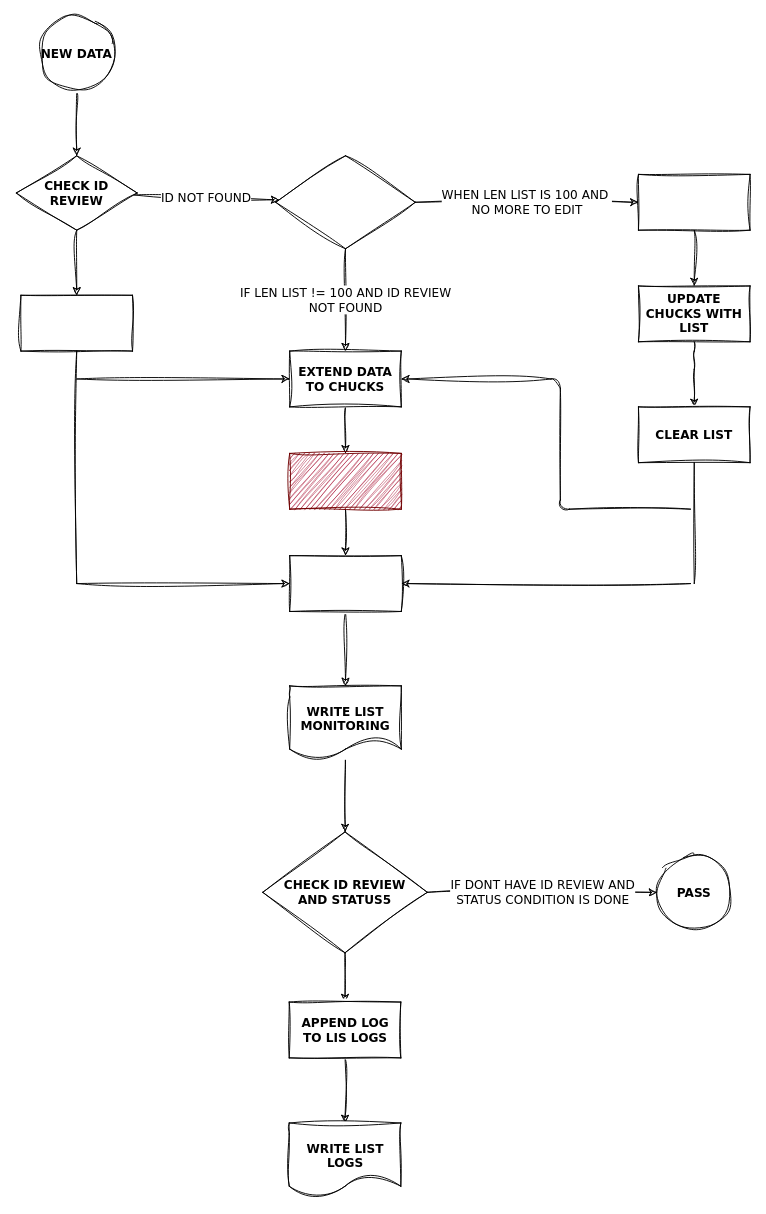
The diagram is 766 pixels wide and 1214 high, and some of its shapes have lost their labels. The box of each missing label's shape, as (x1, y1, x2, y2) in pixels:
APPEND MONITORING TO LIST: (289, 452, 401, 509)
CHECK LEN LIST: (275, 155, 415, 249)
COPY LIST: (638, 173, 750, 230)
EDIT DATA IN LIST: (20, 294, 133, 351)
EXTEND LIST AND CHUCKS: (289, 555, 401, 611)
